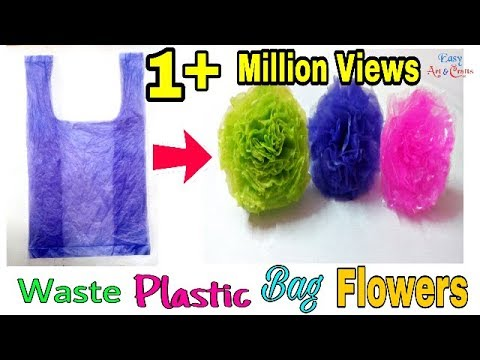plastic_bag: (19, 50, 152, 261)
